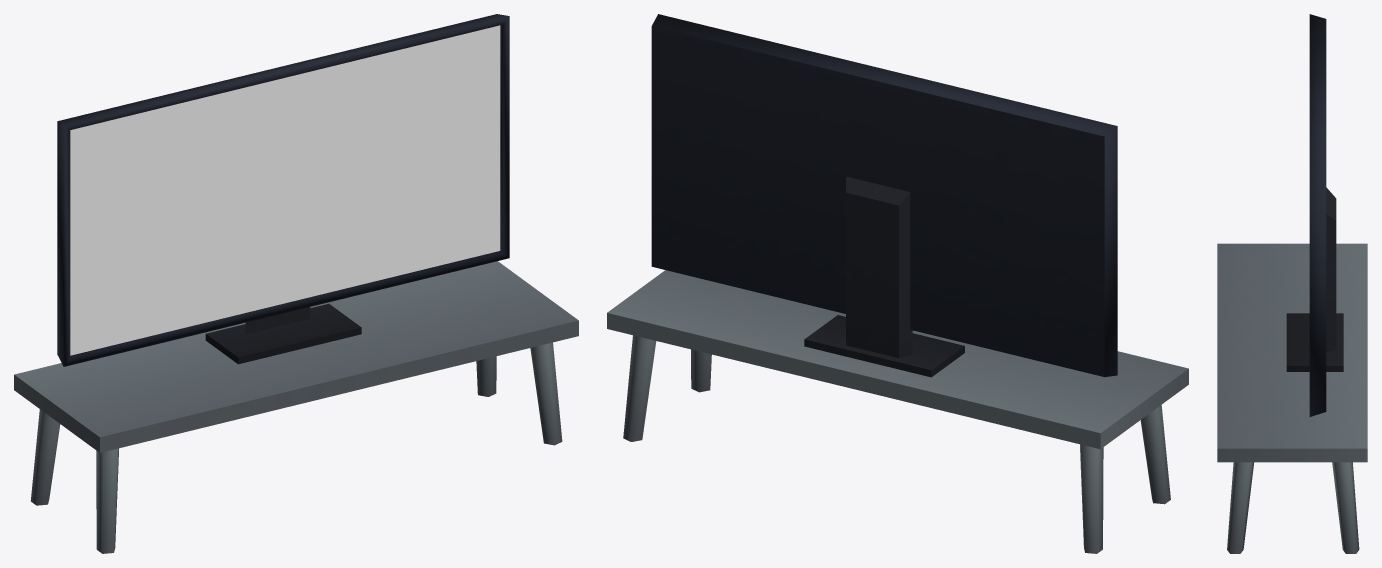
The model's file is TVTable.FBX.
3 views of the same model, side by side, from view 1: azimuth 30°, elevation 25°; view 2: azimuth 150°, elevation 25°; view 3: azimuth 270°, elevation 25° (orthographic). The views are drawn at different scales.
Parts seen in each view (by area): view 1: TVTable; view 2: TVTable; view 3: TVTable.
Part boxes in pixels (left/top/right/bottom): TVTable: left=14, top=14, right=578, bottom=553; TVTable: left=607, top=14, right=1188, bottom=553; TVTable: left=1217, top=14, right=1367, bottom=553.
Size of the model in its own units: 57.09 by 44.9 by 17.72.
